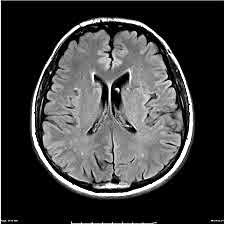Normal_Brain: (34, 1, 199, 225)
